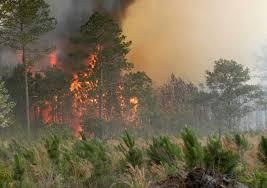fire: (29, 47, 105, 135)
